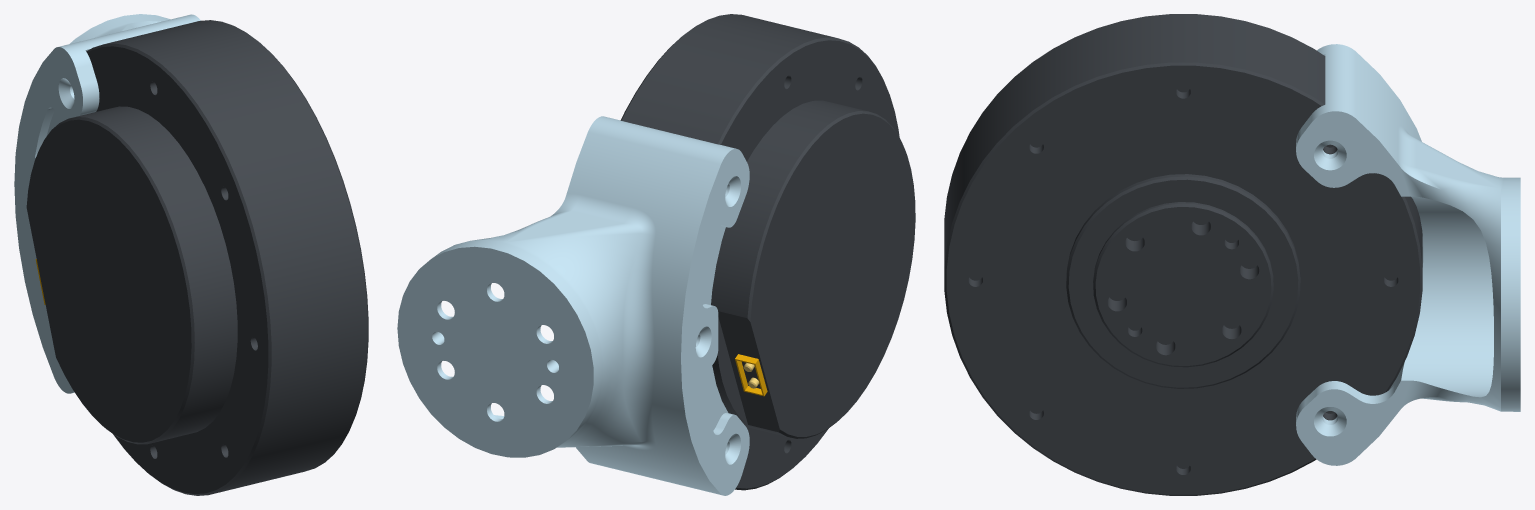
File: l_shoulder_pitch_link.dae
The picture shows the model from 3 angles, left to right: view 1: azimuth 30°, elevation 25°; view 2: azimuth 150°, elevation 25°; view 3: azimuth 270°, elevation 25°; orthographic projection. The views are drawn at different scales.
Parts seen in each view (by area): view 1: AK80-9, shoulder_pitch_bracket_mirror; view 2: shoulder_pitch_bracket_mirror, AK80-9; view 3: AK80-9, shoulder_pitch_bracket_mirror.
Boxes of the visible parts, <box> form: AK80-9: <box>26,20,368,495</box>; shoulder_pitch_bracket_mirror: <box>14,14,200,393</box>; shoulder_pitch_bracket_mirror: <box>397,116,749,495</box>; AK80-9: <box>620,14,915,490</box>; AK80-9: <box>944,14,1422,495</box>; shoulder_pitch_bracket_mirror: <box>1296,44,1520,465</box>.
Size of the model in its own units: 0.0665 by 0.0979 by 0.1179.
